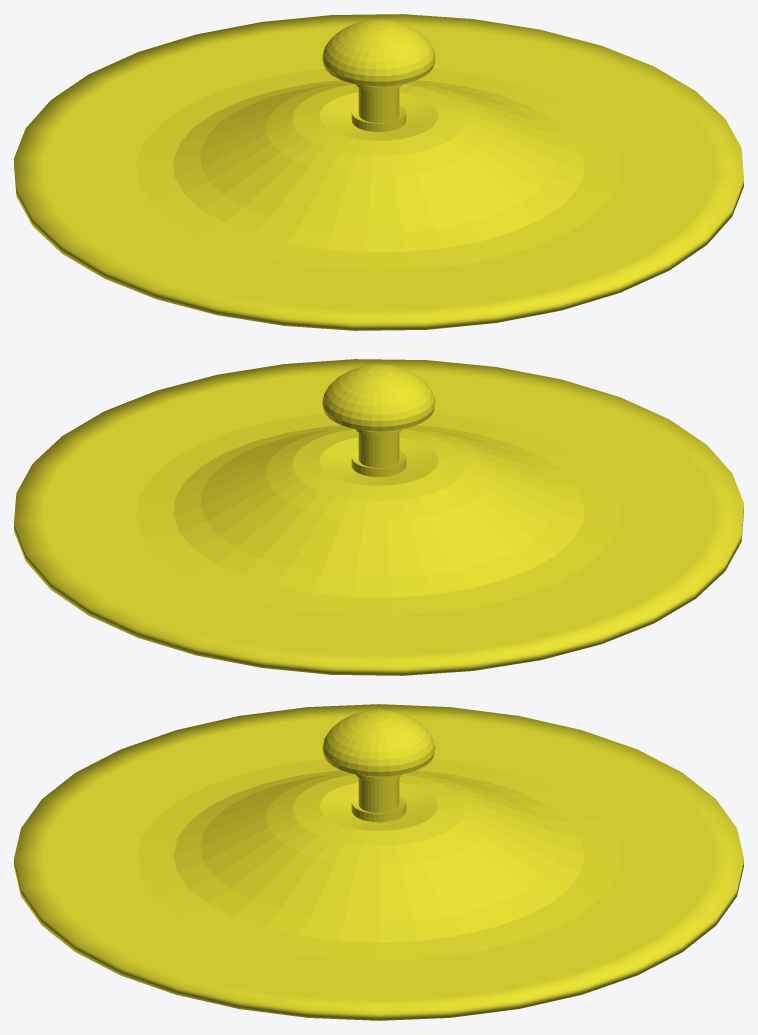
File: platillo.fbx
3 views of the same model, one above another, from view 1: azimuth 30°, elevation 25°; view 2: azimuth 150°, elevation 25°; view 3: azimuth 270°, elevation 25° (orthographic).
Parts seen in each view (by area): view 1: pla to; view 2: pla to; view 3: pla to.
Part boxes in pixels (<box>): pla to: <box>14,14,743,330</box>; pla to: <box>14,359,743,675</box>; pla to: <box>14,704,743,1020</box>.
Size of the model in its own units: 16127 by 3663 by 16127.
